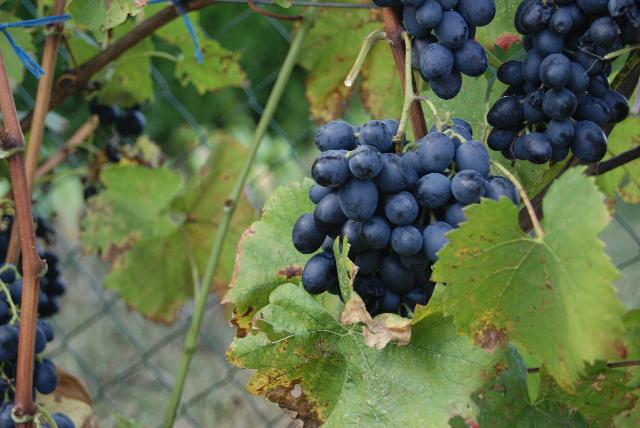grapes: (292, 120, 518, 318), (488, 0, 640, 164)
